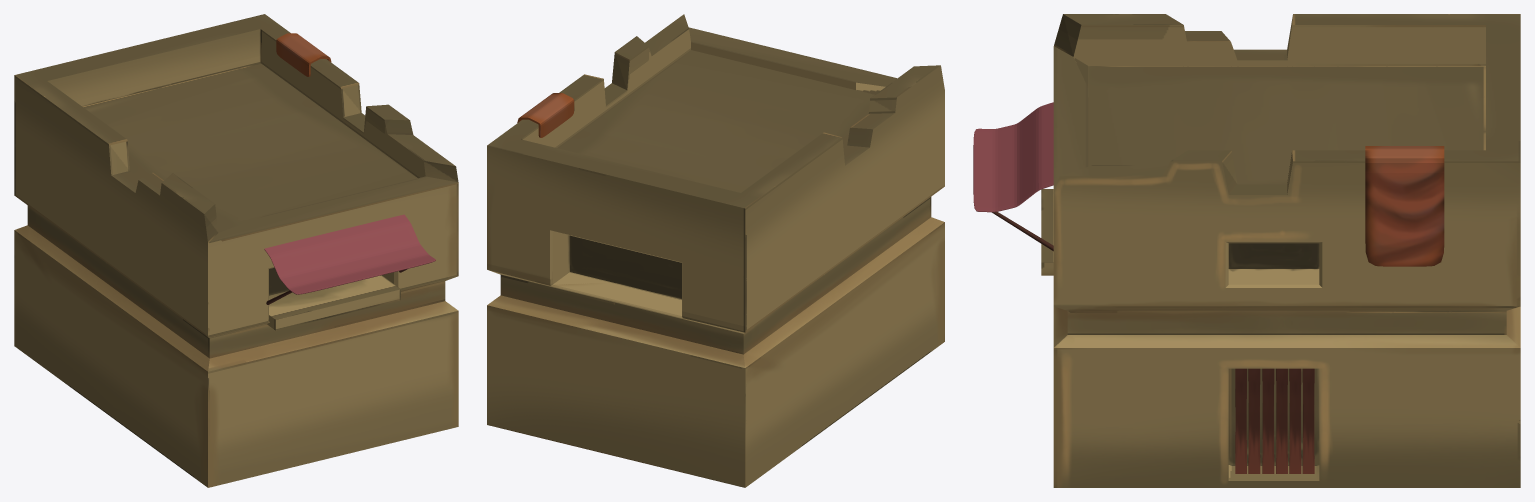
Rendered from Construção6.fbx.
3 renders of one model, left to right at view 1: azimuth 30°, elevation 25°; view 2: azimuth 150°, elevation 25°; view 3: azimuth 270°, elevation 25°, orthographic. The views are drawn at different scales.
Visible parts, largest first — view 1: Cube.053, Plane.002, Plane.003; view 2: Cube.053, Plane.003; view 3: Cube.053, Plane.003, Cube.057, Plane.002.
Part boxes in pixels (<box>): Cube.053: <box>14,14,458,487</box>; Plane.002: <box>264,214,435,294</box>; Plane.003: <box>276,33,331,76</box>; Cube.053: <box>487,14,944,487</box>; Plane.003: <box>517,93,574,137</box>; Cube.053: <box>1041,14,1520,487</box>; Plane.003: <box>1365,146,1444,266</box>; Cube.057: <box>1235,368,1314,473</box>; Plane.002: <box>973,102,1053,212</box>.
Size of the model in its own units: 465 by 486 by 722.
5 materials, 5 textured.
